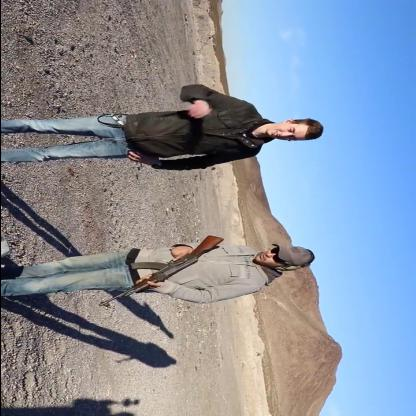long weapon: (94, 229, 232, 308)
